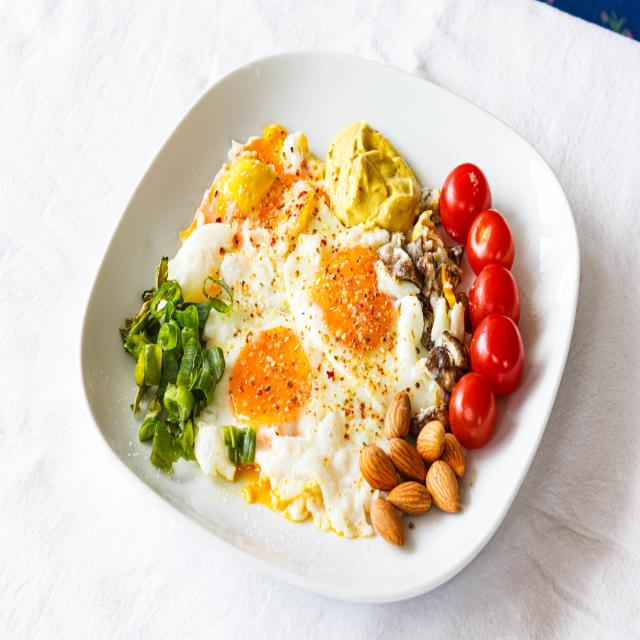Egg: (218, 174, 442, 537), (210, 310, 381, 538), (169, 136, 318, 302), (298, 246, 436, 414), (285, 206, 340, 296)
